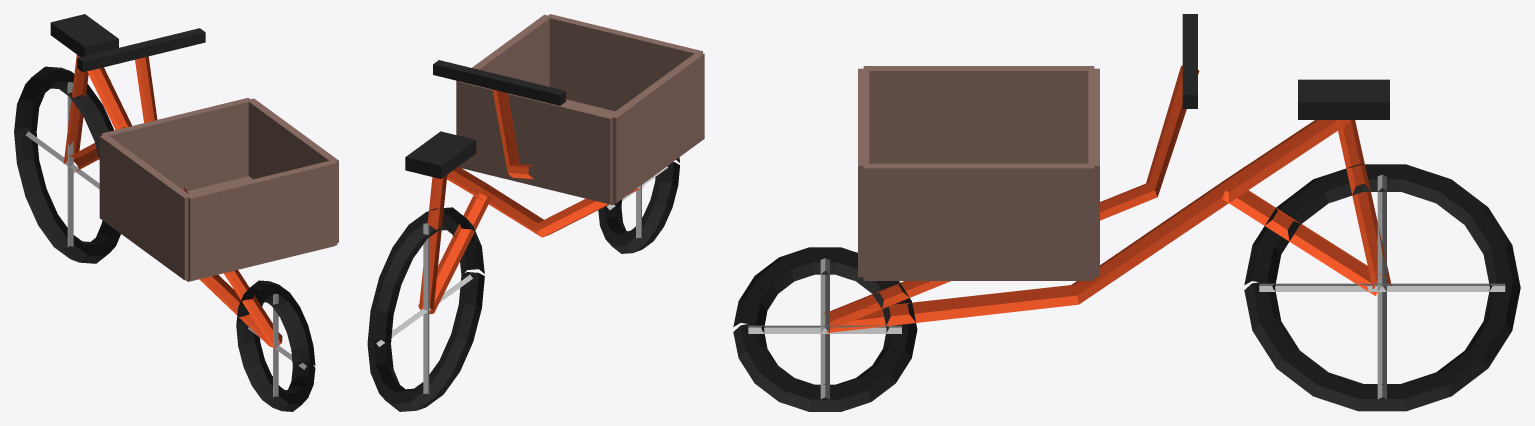
The model's file is ladcykel.glb.
3 views of the same model, side by side, from view 1: azimuth 30°, elevation 25°; view 2: azimuth 150°, elevation 25°; view 3: azimuth 270°, elevation 25° (orthographic). The views are drawn at different scales.
Visible parts, largest first — view 1: ladcykel; view 2: ladcykel; view 3: ladcykel.
Part boxes in pixels (x1=…): ladcykel: x1=14, y1=14, x2=338, y2=411; ladcykel: x1=367, y1=14, x2=704, y2=411; ladcykel: x1=733, y1=14, x2=1520, y2=411.
Size of the model in its own units: 0.63 by 1.03 by 2.05.
